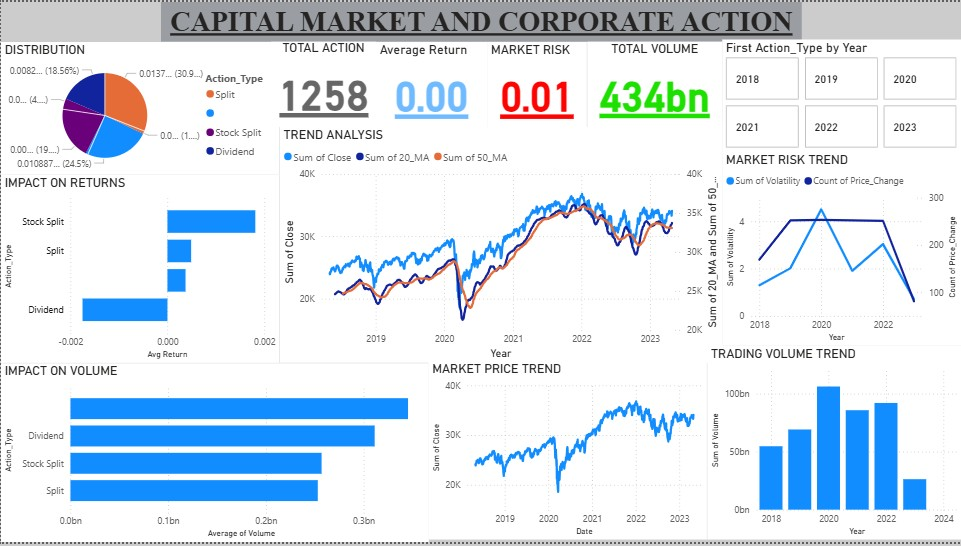

The dashboard page shown, as its layout file describes it:
{"tool":"powerbi","page":{"name":"Page 1","canvas":[1280,720],"ordinal":0},"visuals":[{"type":"card","title":"Average Return","fields":{"Values":["final_market_with_actions.Avg Return"]},"box":[500,52.9,148.6,114.3],"z":0},{"type":"card","title":"TOTAL ACTION","fields":{"Values":["final_market_with_actions.Total Actions"]},"box":[360,50,140,117.1],"z":1000},{"type":"card","title":"TOTAL VOLUME","fields":{"Values":["final_market_with_actions.Total Volume"]},"box":[781.4,51.4,180,115.7],"z":2000},{"type":"card","title":"MARKET RISK","fields":{"Values":["final_market_with_actions.Market Risk"]},"box":[648.6,52.9,132.9,114.3],"z":3000},{"type":"textbox","box":[212.9,0,854.3,52.9],"z":4000},{"type":"lineChart","title":"MARKET PRICE TREND","fields":{"Y":["Sum(final_market_with_actions.Close)"],"Category":["final_market_with_actions.Date"]},"box":[570,478.6,371.4,238.6],"z":5000},{"type":"lineChart","title":"TREND ANALYSIS","fields":{"Y":["Sum(final_market_with_actions.Close)"],"Category":["final_market_with_actions.Date.Variation.Date Hierarchy.Year","final_market_with_actions.Date.Variation.Date Hierarchy.Quarter","final_market_with_actions.Date.Variation.Date Hierarchy.Month","final_market_with_actions.Date.Variation.Date Hierarchy.Day"],"Y2":["Sum(final_market_with_actions.20_MA)","Sum(final_market_with_actions.50_MA)"]},"box":[371.4,167.1,590,314.3],"z":6000},{"type":"lineChart","title":"MARKET RISK TREND","fields":{"Category":["final_market_with_actions.Date.Variation.Date Hierarchy.Year","final_market_with_actions.Date.Variation.Date Hierarchy.Quarter","final_market_with_actions.Date.Variation.Date Hierarchy.Month","final_market_with_actions.Date.Variation.Date Hierarchy.Day"],"Y":["Sum(final_market_with_actions.Volatility)"],"Y2":["CountNonNull(final_market_with_actions.Price_Change)"]},"box":[961.4,200,318.6,258.6],"z":7000},{"type":"clusteredColumnChart","title":"TRADING VOLUME TREND","fields":{"Category":["final_market_with_actions.Date.Variation.Date Hierarchy.Year","final_market_with_actions.Date.Variation.Date Hierarchy.Quarter","final_market_with_actions.Date.Variation.Date Hierarchy.Month","final_market_with_actions.Date.Variation.Date Hierarchy.Day"],"Y":["Sum(final_market_with_actions.Volume)"]},"box":[941.4,458.6,338.6,258.6],"z":8000},{"type":"barChart","title":"IMPACT ON RETURNS","fields":{"Category":["final_market_with_actions.Action_Type"],"Y":["final_market_with_actions.Avg Return"]},"box":[0,230,371.4,251.4],"z":9000},{"type":"barChart","title":"IMPACT ON VOLUME","fields":{"Category":["final_market_with_actions.Action_Type"],"Y":["Avg(final_market_with_actions.Volume)"]},"box":[0,481.4,570,238.6],"z":10000},{"type":"pieChart","title":"DISTRIBUTION","fields":{"Category":["final_market_with_actions.Action_Type"],"Y":["final_market_with_actions.Market Risk","final_market_with_actions.Avg Return"]},"box":[0,52.9,371.4,177.1],"z":11000},{"type":"advancedSlicerVisual","fields":{"Values":["final_market_with_actions.Date.Variation.Date Hierarchy.Year"]},"box":[961.4,50,318.6,150],"z":12000}]}

Visuals, with their boxes in screenshot pixels (x1, y1, x2, y2), scaled from the page's 1280x720 canvas onto the 961x546 screenshot:
"Average Return" card: 375,40,487,127
"TOTAL ACTION" card: 270,38,375,127
"TOTAL VOLUME" card: 587,39,722,127
"MARKET RISK" card: 487,40,587,127
textbox: 160,0,801,40
"MARKET PRICE TREND" lineChart: 428,363,707,544
"TREND ANALYSIS" lineChart: 279,127,722,365
"MARKET RISK TREND" lineChart: 722,152,960,348
"TRADING VOLUME TREND" clusteredColumnChart: 707,348,960,544
"IMPACT ON RETURNS" barChart: 0,174,279,365
"IMPACT ON VOLUME" barChart: 0,365,428,545
"DISTRIBUTION" pieChart: 0,40,279,174
advancedSlicerVisual - final_market_with_actions.Date.Variation.Date Hierarchy.Year: 722,38,960,152
